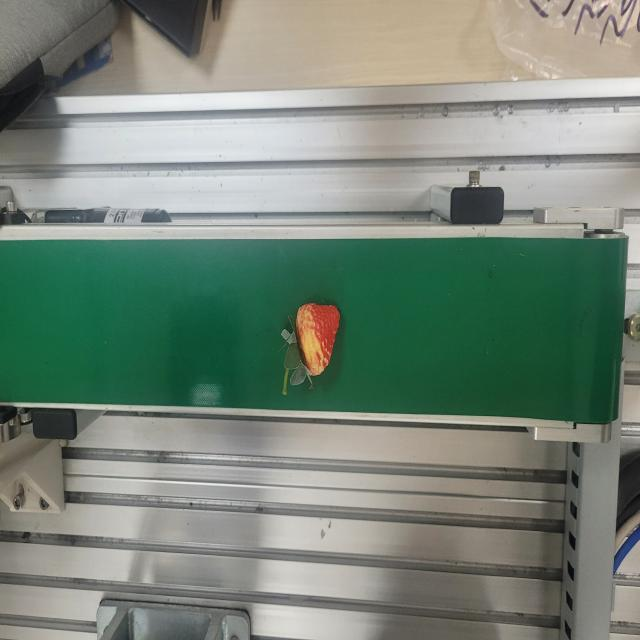Moldy Strawberry: (295, 298, 341, 377)
